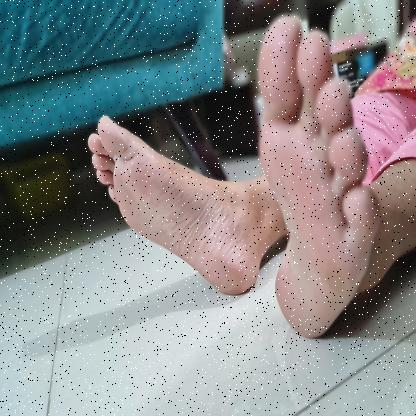leg: (252, 5, 416, 346), (79, 100, 264, 305)
